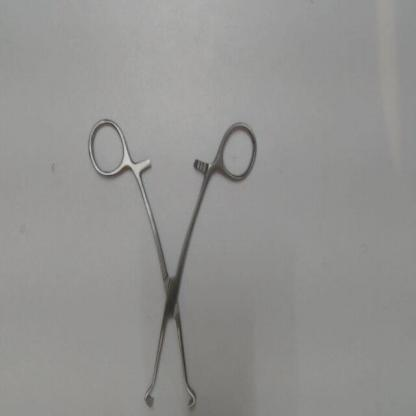Babcock Tissue Forceps: (81, 115, 262, 414)
